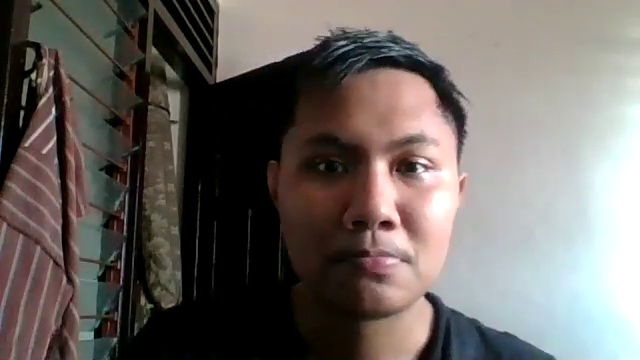Not Distracted: (264, 81, 471, 317)
